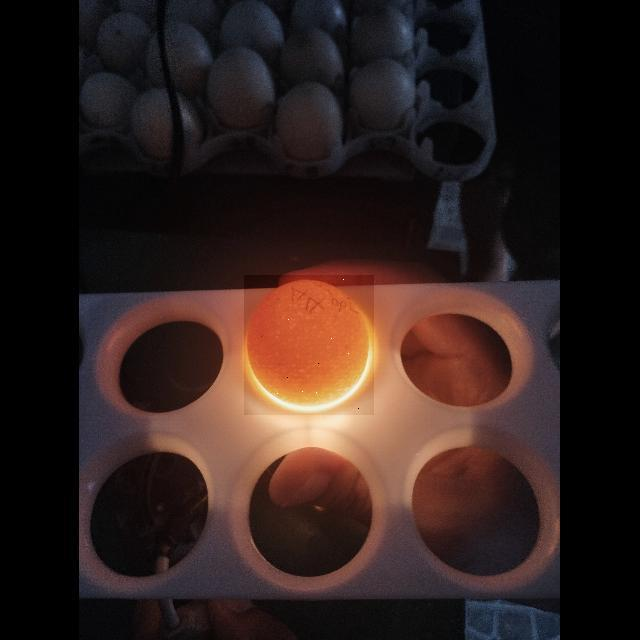Infertile: (244, 275, 374, 415)
